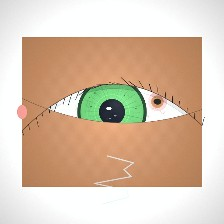foreign_body_visible: (138, 86, 177, 117)
